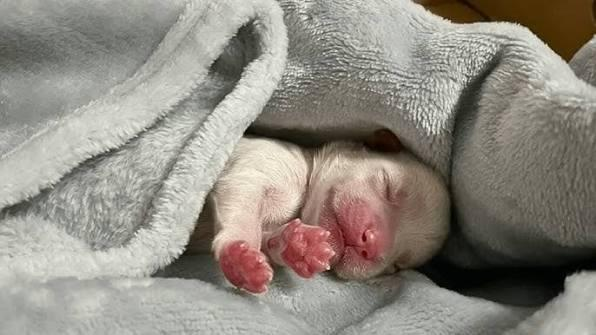puppy-dog: (192, 126, 452, 295)
